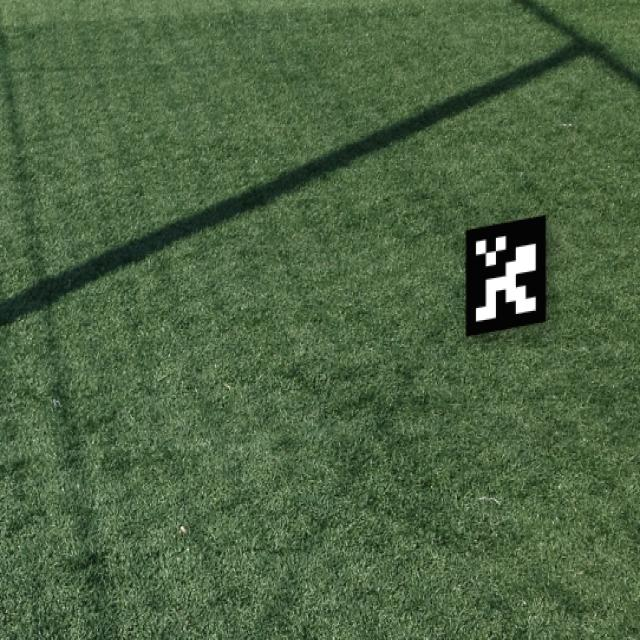marker: (453, 205, 568, 348)
